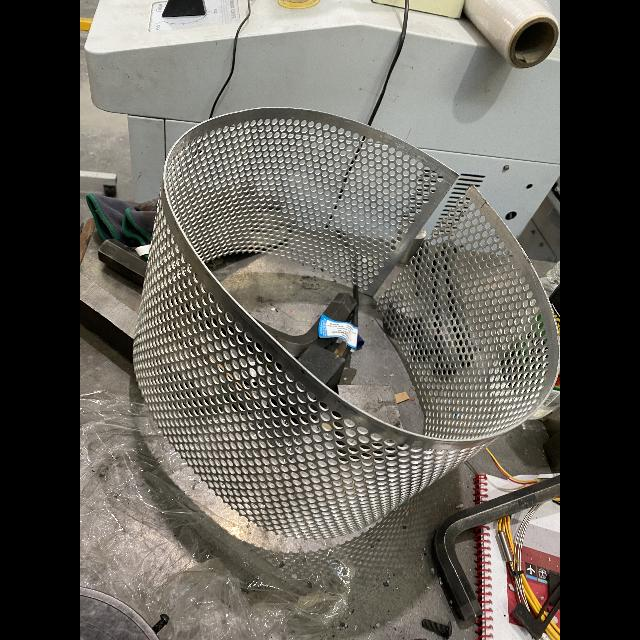Aluminium: (133, 107, 560, 539)
Ferrous Metal: (432, 475, 560, 620), (254, 293, 357, 356), (80, 271, 138, 362), (334, 385, 403, 429), (298, 343, 345, 391), (98, 240, 147, 283), (423, 619, 453, 639)
